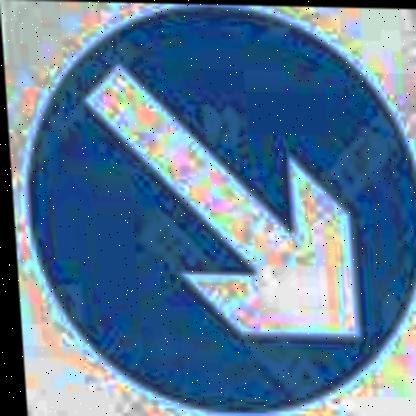Keep right: (16, 1, 416, 412)
